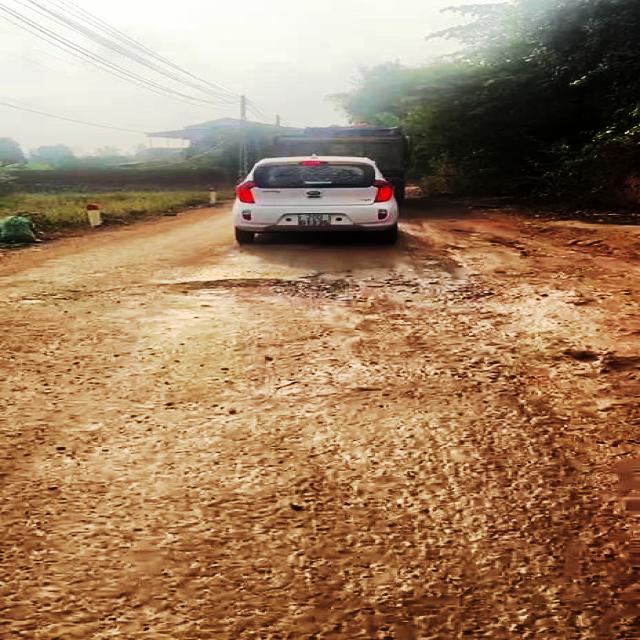pothole: (140, 272, 482, 302)
